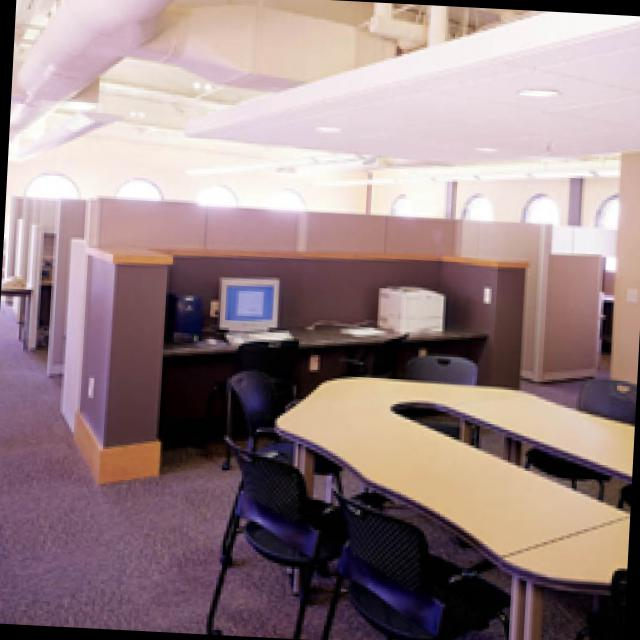2001: (29, 170, 81, 195), (526, 192, 561, 222), (199, 182, 244, 204), (116, 178, 166, 197), (466, 191, 496, 219), (598, 193, 623, 226), (271, 188, 308, 209), (396, 192, 419, 212)
ceiling beam: (20, 0, 640, 163)
ceiling lamps: (517, 83, 560, 97), (315, 120, 345, 133), (479, 141, 504, 154)
chair: (240, 335, 319, 401), (578, 375, 637, 426), (407, 353, 480, 378)
chair -occluded-: (321, 489, 511, 638), (204, 436, 341, 635), (234, 369, 283, 436)
computer: (219, 275, 285, 327)
computer crop: (171, 287, 201, 343)
conference table: (275, 375, 635, 640)
desk calendar: (170, 322, 484, 357)
keyboard crop: (232, 326, 299, 346)
monitor crop: (222, 272, 285, 325)
mouse pad: (209, 334, 219, 340)
printer: (383, 285, 449, 332)
table -X: (4, 271, 39, 347)
wall outlets: (310, 352, 326, 368), (485, 281, 497, 302), (210, 297, 223, 315), (88, 373, 99, 393), (629, 284, 640, 299)
